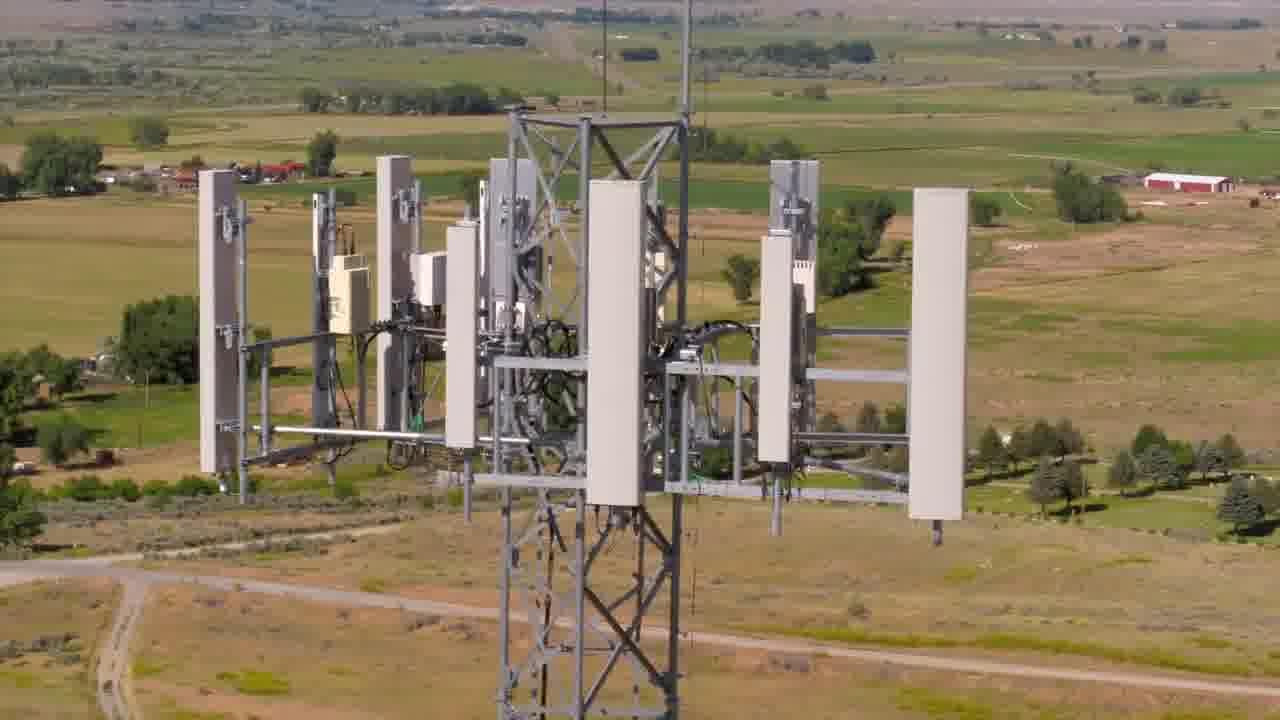antenna: (579, 173, 658, 512), (908, 178, 975, 531), (192, 161, 264, 483), (373, 154, 420, 438), (753, 228, 797, 474), (444, 220, 487, 468), (769, 153, 822, 243)
